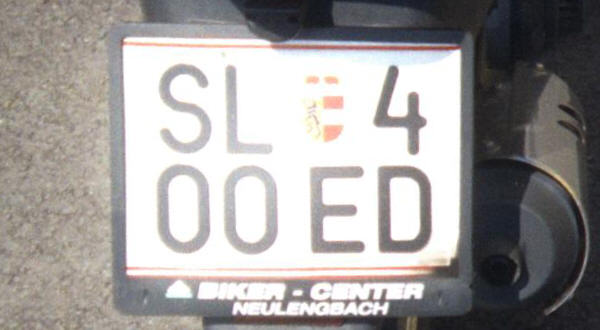license_plate: (120, 32, 465, 283)
